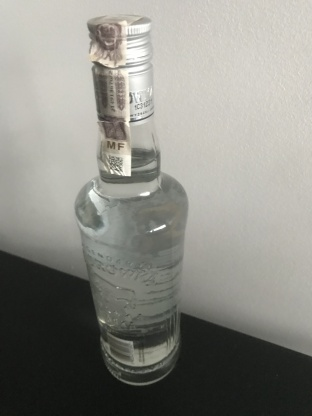nakretka: (85, 12, 156, 126)
